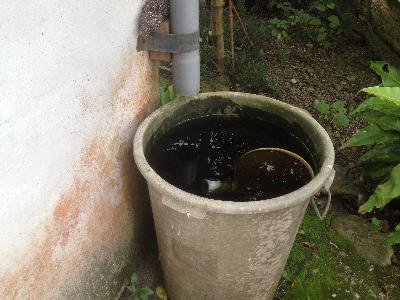bucket: (132, 90, 337, 300)
